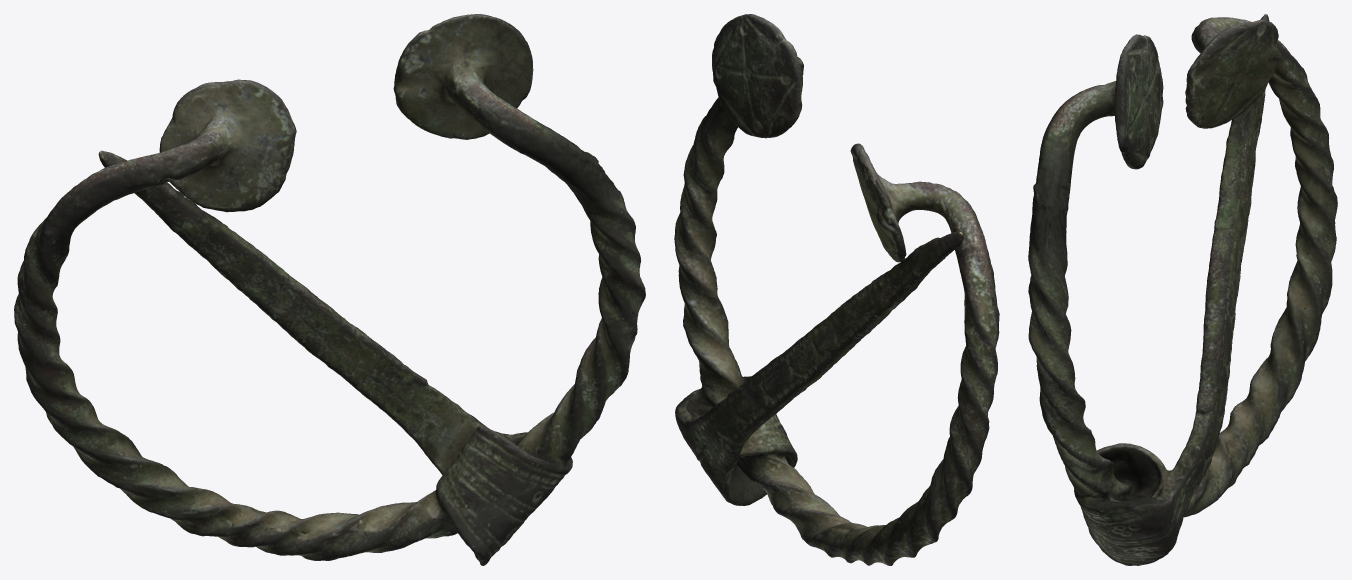
File: MFZapinkPodkGlb.glb
3 renders of one model, left to right at view 1: azimuth 30°, elevation 25°; view 2: azimuth 150°, elevation 25°; view 3: azimuth 270°, elevation 25°, orthographic. The views are drawn at different scales.
Visible parts, largest first — view 1: MFZapinkaPodkowiastaBlender; view 2: MFZapinkaPodkowiastaBlender; view 3: MFZapinkaPodkowiastaBlender.
Part boxes in pixels (left/top/right/bottom): MFZapinkaPodkowiastaBlender: left=14, top=14, right=645, bottom=565; MFZapinkaPodkowiastaBlender: left=674, top=14, right=999, bottom=565; MFZapinkaPodkowiastaBlender: left=1028, top=14, right=1337, bottom=565.
Bounding box in the file's own units: 0.0659 × 0.0707 × 0.0382.
Materials: 1 (1 with a texture image).
